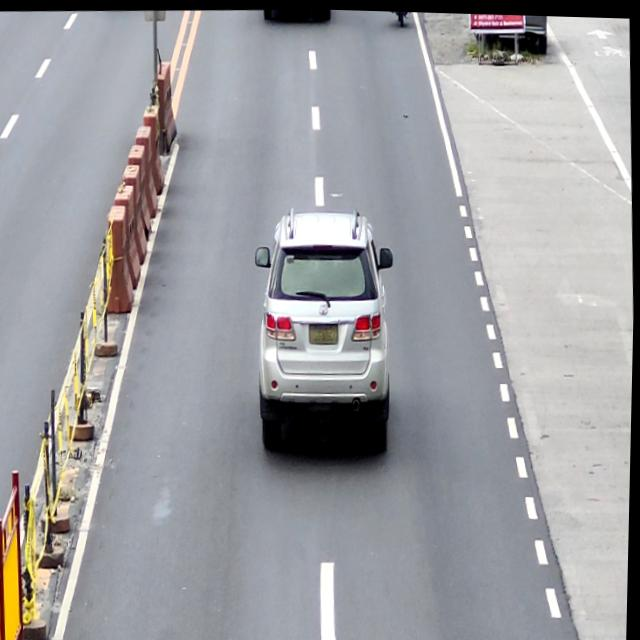Car: (248, 201, 403, 456)
License-Plate: (309, 318, 340, 343)
